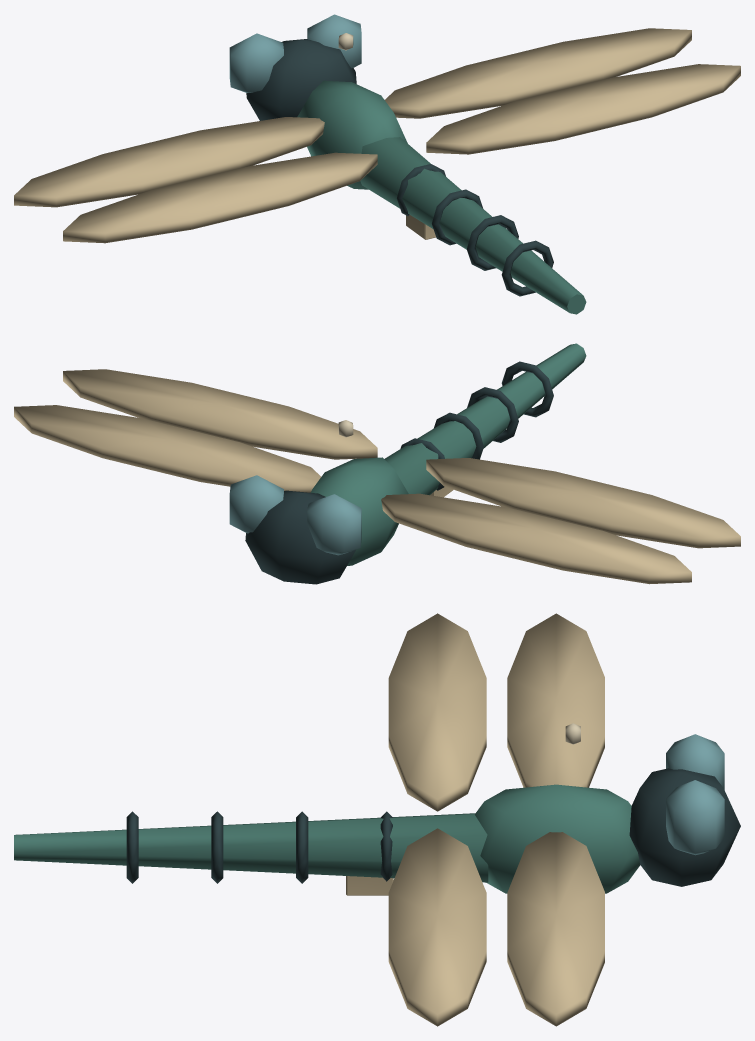
File: insect_dragonfly_emperor_low.glb
3 views of the same model, one above another, from view 1: azimuth 30°, elevation 25°; view 2: azimuth 150°, elevation 25°; view 3: azimuth 270°, elevation 25° (orthographic). The views are drawn at different scales.
Bounding box in the file's own units: 0.2799 × 0.057 × 0.2145.
